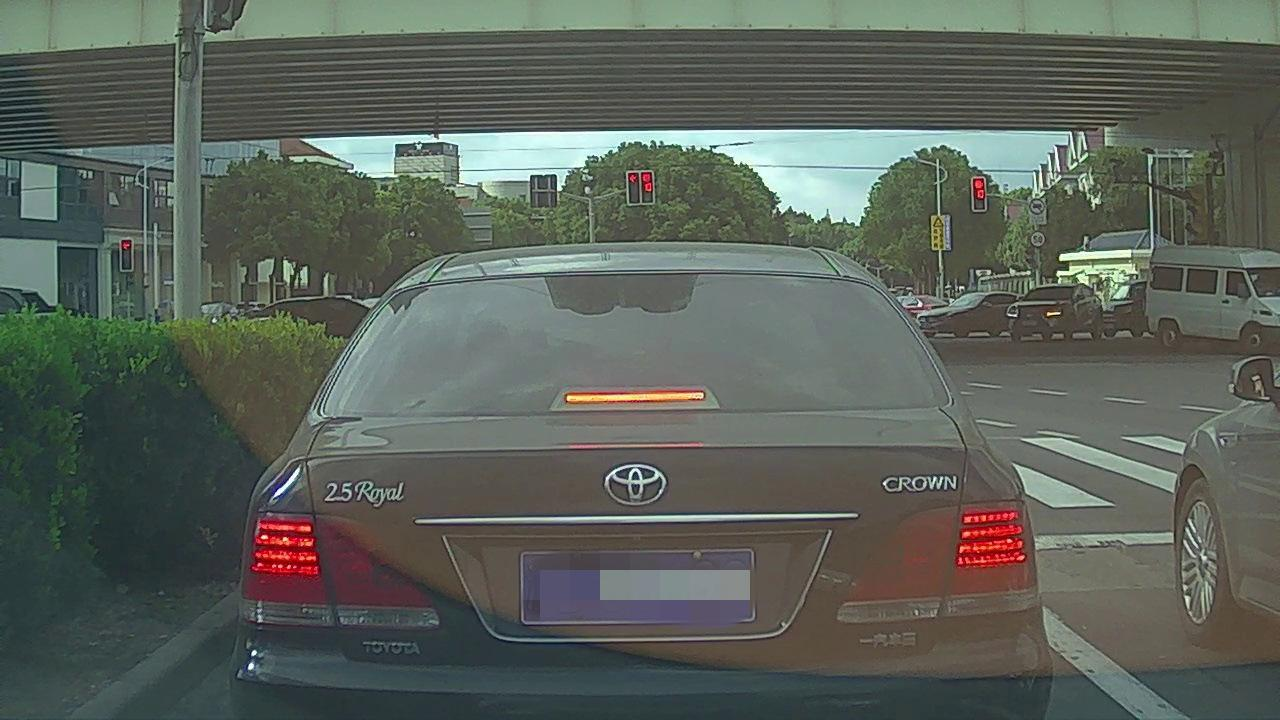traffic_light: (628, 172, 641, 207), (641, 171, 654, 204), (972, 177, 985, 210)
